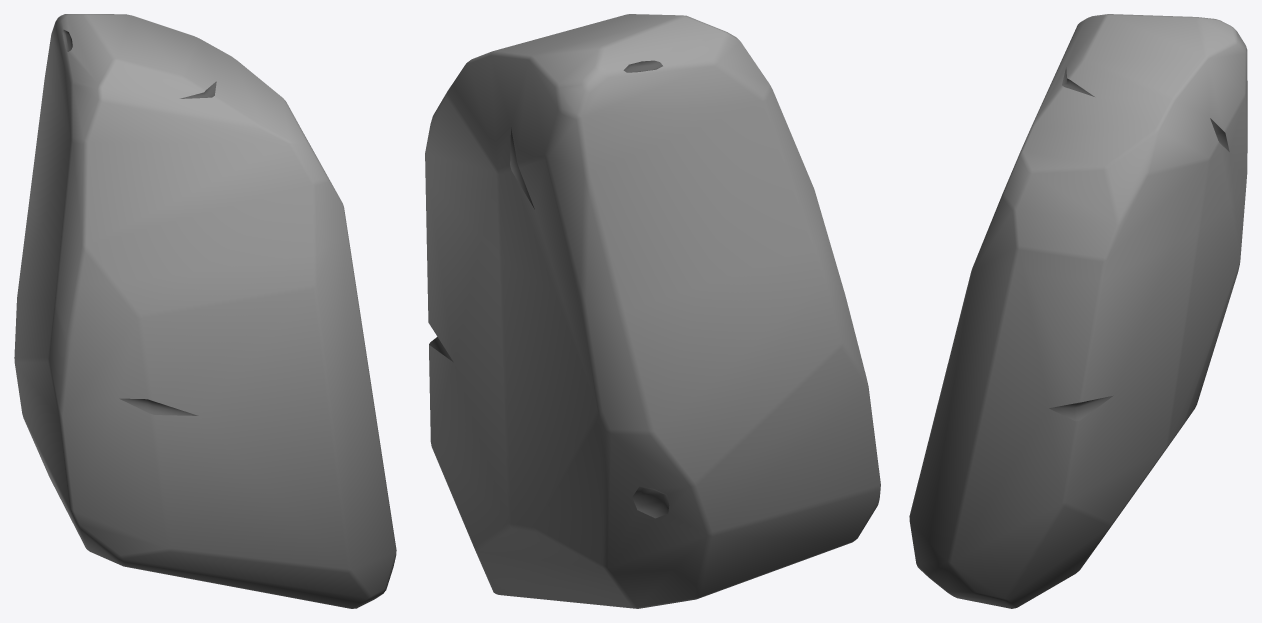
The model's file is Rock09.fbx.
3 renders of one model, left to right at view 1: azimuth 30°, elevation 25°; view 2: azimuth 150°, elevation 25°; view 3: azimuth 270°, elevation 25°, orthographic. The views are drawn at different scales.
Visible parts, largest first — view 1: LOD0; view 2: LOD0; view 3: LOD0.
Boxes of the visible parts, x1,y1,x2,y2 form: LOD0: (14,14,396,608); LOD0: (425,14,880,608); LOD0: (909,14,1247,608).
Size of what is drawn, in the model's own units: 450 by 430 by 710.
